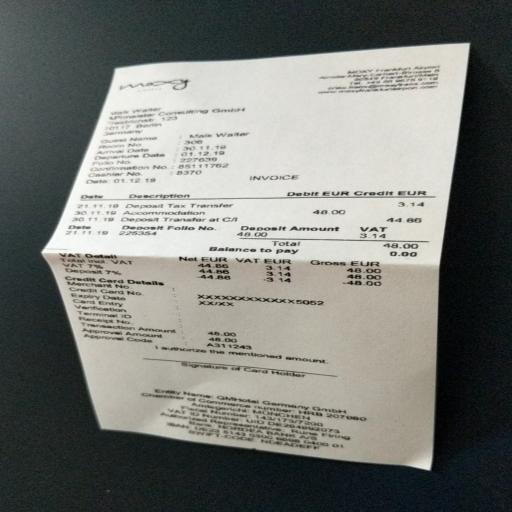paper: (17, 22, 487, 512)
